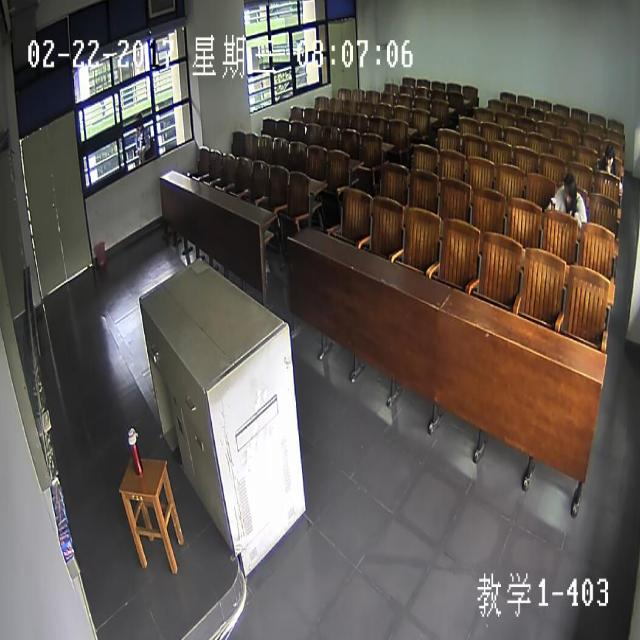person: (562, 170, 576, 204), (604, 142, 614, 166)
